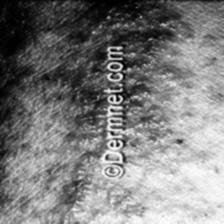Toxin: (160, 130, 192, 154), (46, 210, 86, 224)
